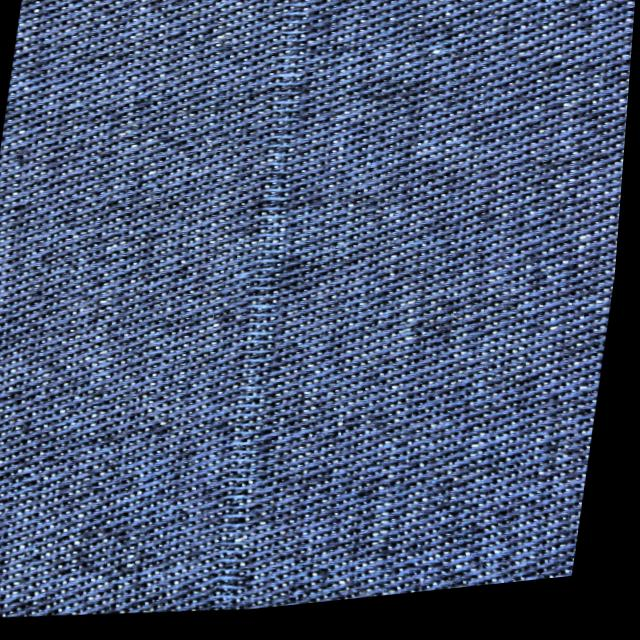Hole: (223, 0, 318, 615)
